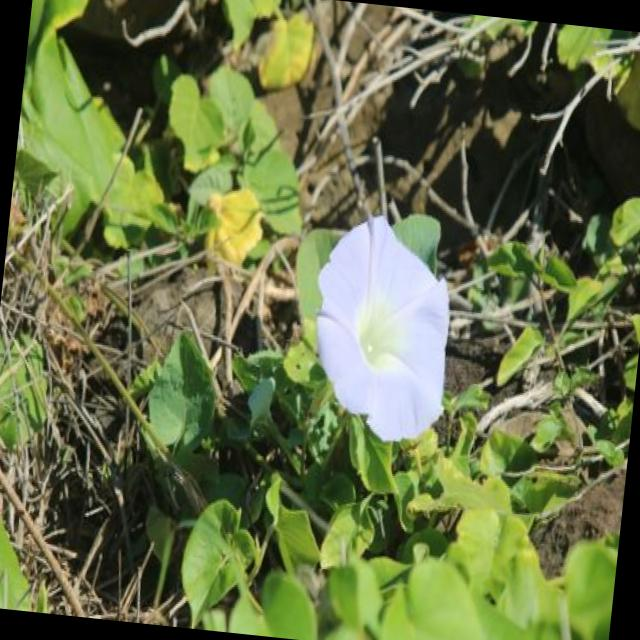ipomoea: (298, 206, 466, 452)
